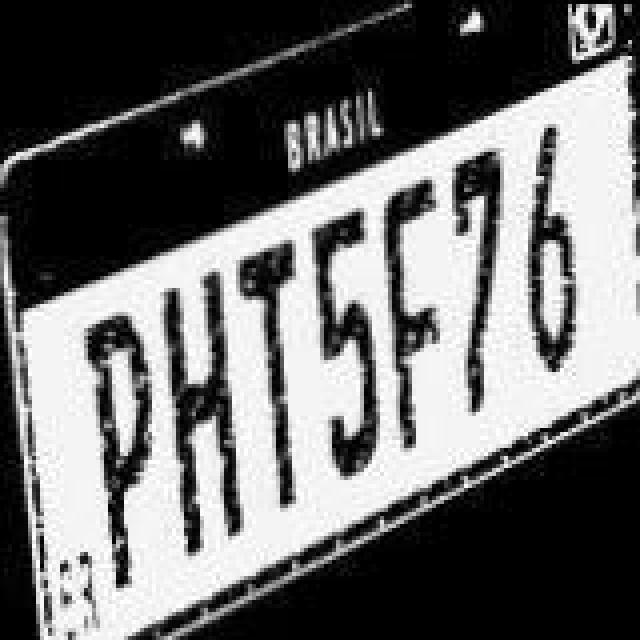5: (314, 200, 378, 492)
6: (518, 126, 582, 378)
7: (446, 144, 518, 428)
F: (382, 168, 446, 460)
H: (154, 260, 242, 544)
P: (84, 310, 152, 586)
T: (238, 230, 310, 526)
